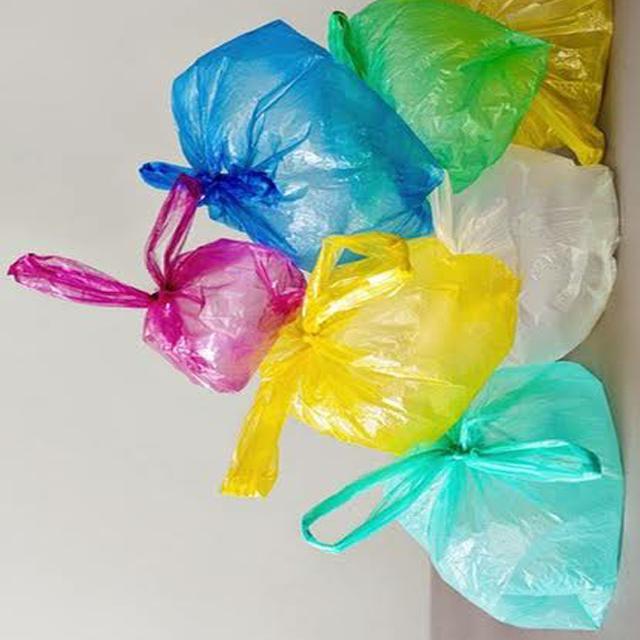Single-layer Plastic: (302, 361, 624, 629), (222, 232, 519, 496), (141, 20, 442, 271), (8, 174, 306, 392), (329, 0, 549, 192), (430, 145, 619, 363), (453, 0, 612, 165)
